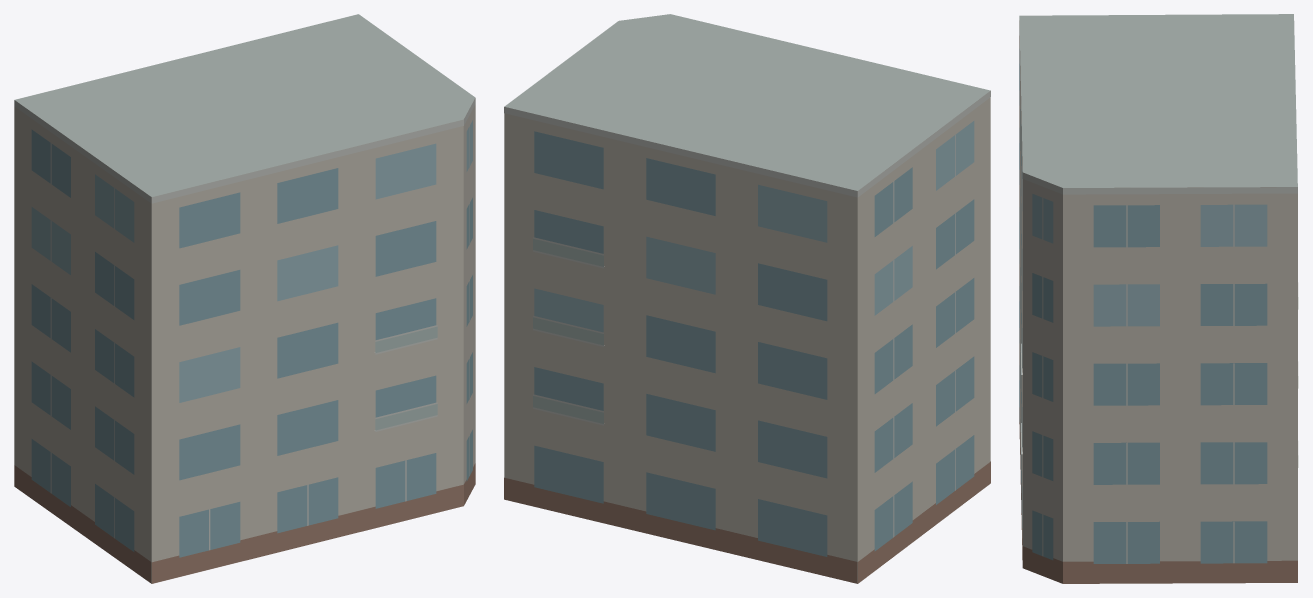
File: survey-upis-32550164.glb
The picture shows the model from 3 angles, left to right: view 1: azimuth 30°, elevation 25°; view 2: azimuth 150°, elevation 25°; view 3: azimuth 270°, elevation 25°; orthographic projection. The views are drawn at different scales.
Visible parts, largest first — view 1: survey-upis-32550164.tmp; view 2: survey-upis-32550164.tmp; view 3: survey-upis-32550164.tmp.
Boxes of the visible parts, x1,y1,x2,y2 form: survey-upis-32550164.tmp: (14, 14, 475, 583); survey-upis-32550164.tmp: (504, 14, 990, 583); survey-upis-32550164.tmp: (1019, 14, 1298, 583).
Size of the model in its own units: 13.87 by 14.7 by 9.41.
